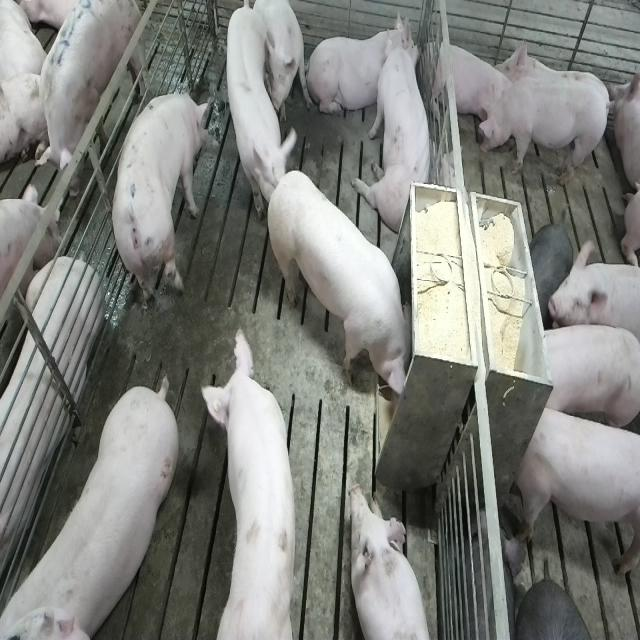Feeding: (271, 167, 421, 404)
Lateral_lying: (0, 251, 100, 588)
Sitting: (357, 12, 436, 234), (242, 2, 304, 123)
Standing: (5, 373, 184, 635), (205, 323, 302, 639), (29, 0, 143, 196), (112, 88, 208, 319), (514, 400, 638, 578), (226, 6, 302, 225), (478, 80, 612, 189), (549, 240, 640, 360), (538, 323, 638, 430)
Sternal_lying: (348, 483, 433, 640), (310, 19, 418, 124), (428, 34, 509, 132)
